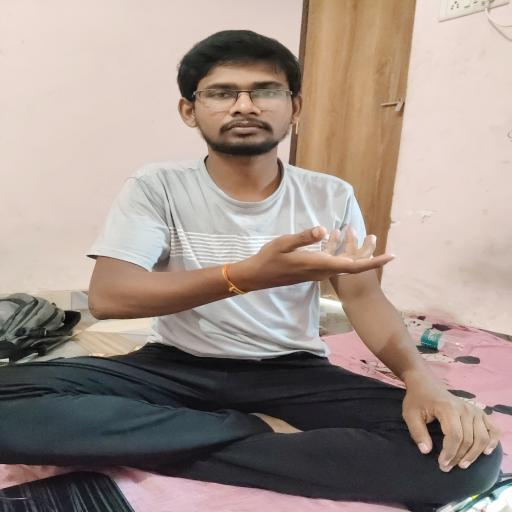Help: (220, 221, 419, 307)
